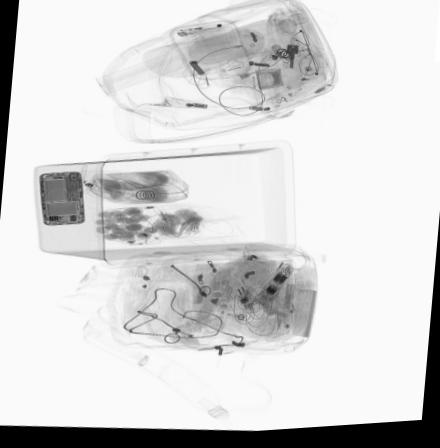Lighter: (174, 26, 221, 40)
